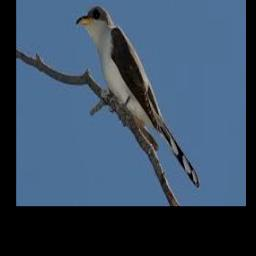Cuckoo: (76, 5, 199, 189)
